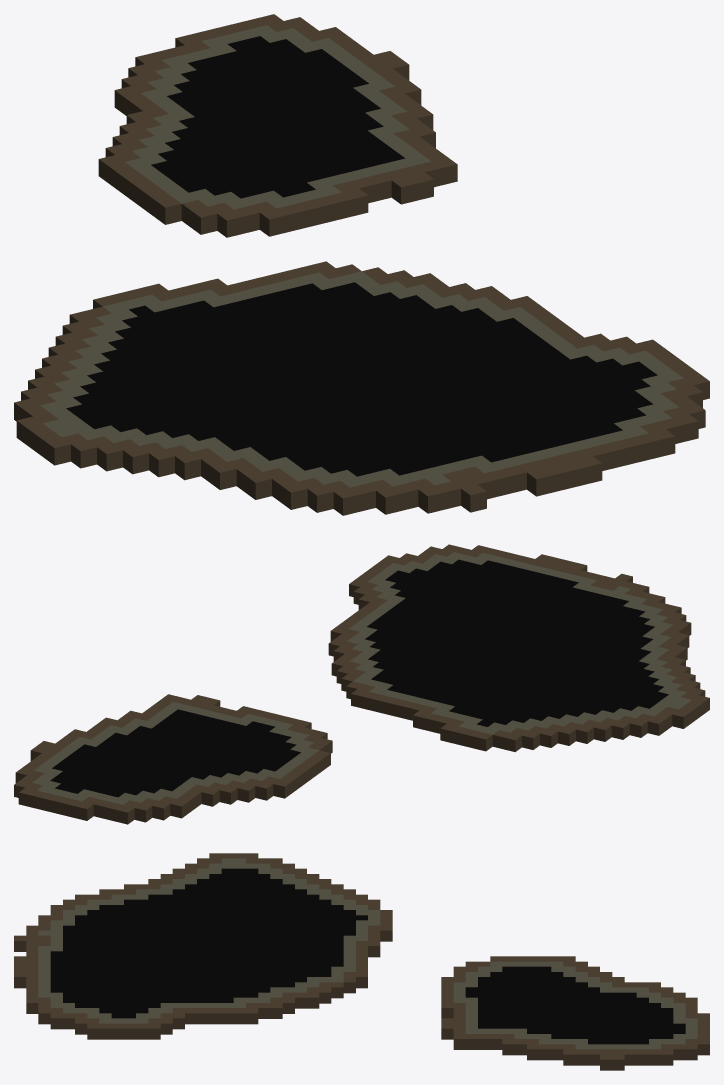
The model's file is ground_hole_2.obj.
3 views of the same model, one above another, from view 1: azimuth 30°, elevation 25°; view 2: azimuth 150°, elevation 25°; view 3: azimuth 270°, elevation 25° (orthographic). The views are drawn at different scales.
Bounding box in the file's own units: 4 × 0.1 × 5.7.
Materials: 1 (1 with a texture image).
